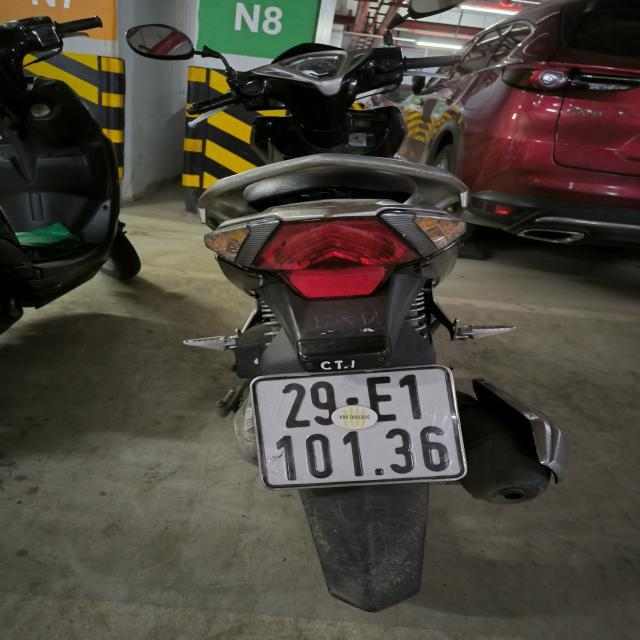license: (249, 363, 468, 489)
